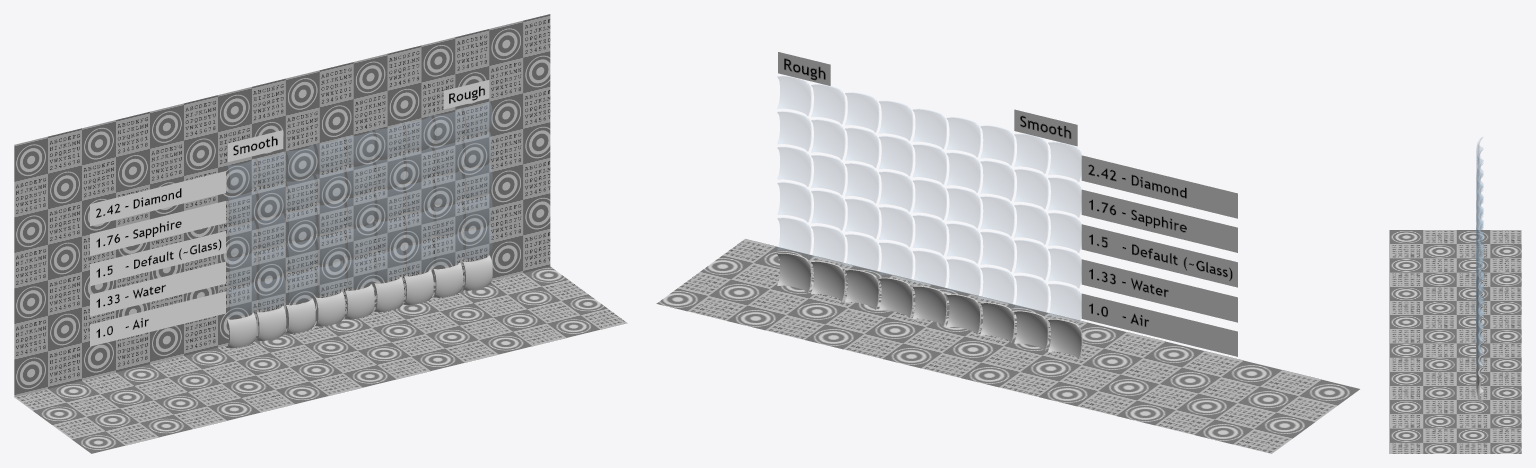
File: TransmissionRoughnessTest.glb
The picture shows the model from 3 angles, left to right: view 1: azimuth 30°, elevation 25°; view 2: azimuth 150°, elevation 25°; view 3: azimuth 270°, elevation 25°; orthographic projection. The views are drawn at different scales.
Visible parts, largest first — view 1: Flat Backdrop, Labels, Opaque, IOR_1.0, IOR_2.42, IOR_1.76, IOR_1.50, IOR_1.33, SmoothRoughLabels; view 2: Flat Backdrop, Labels, Opaque, IOR_1.50, IOR_1.76, IOR_1.0, IOR_2.42, IOR_1.33, SmoothRoughLabels; view 3: Flat Backdrop, Opaque, IOR_2.42, IOR_1.76, IOR_1.50, IOR_1.33, IOR_1.0.
Boxes of the visible parts, left/top/right/bottom form: Flat Backdrop: left=14, top=14, right=627, bottom=453; Labels: left=90, top=171, right=225, bottom=346; Opaque: left=226, top=255, right=492, bottom=348; IOR_1.0: left=227, top=225, right=492, bottom=316; IOR_2.42: left=227, top=101, right=492, bottom=193; IOR_1.76: left=227, top=132, right=492, bottom=224; IOR_1.50: left=227, top=163, right=492, bottom=255; IOR_1.33: left=227, top=194, right=492, bottom=286; SmoothRoughLabels: left=228, top=80, right=489, bottom=161; Flat Backdrop: left=656, top=239, right=1359, bottom=453; Labels: left=1081, top=155, right=1237, bottom=356; Opaque: left=777, top=253, right=1082, bottom=359; IOR_1.50: left=777, top=147, right=1081, bottom=252; IOR_1.76: left=777, top=111, right=1081, bottom=216; IOR_1.0: left=777, top=217, right=1081, bottom=323; IOR_2.42: left=777, top=76, right=1081, bottom=181; IOR_1.33: left=777, top=182, right=1081, bottom=287; SmoothRoughLabels: left=778, top=52, right=1077, bottom=146; Flat Backdrop: left=1389, top=230, right=1521, bottom=453; Opaque: left=1476, top=268, right=1483, bottom=402; IOR_2.42: left=1476, top=137, right=1483, bottom=269; IOR_1.76: left=1476, top=163, right=1483, bottom=296; IOR_1.50: left=1476, top=190, right=1483, bottom=322; IOR_1.33: left=1476, top=216, right=1483, bottom=348; IOR_1.0: left=1476, top=243, right=1483, bottom=375.
Bounding box in the file's own units: 2 × 0.9 × 0.5.
Materials: 9 (3 with a texture image).
